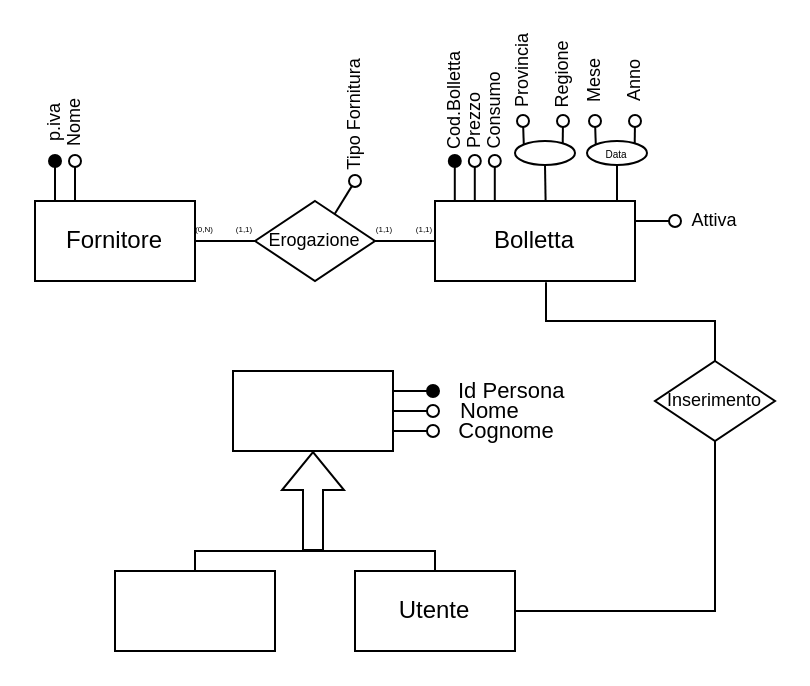
Image size: 810x686. Some labels were removed from this diagram. The shapes that lost their labels are listed below. From the top down, each one's centre as x and y in pixels, then its label:
At point 544,152: "Posizione".
At point 312,410: "Persone".
At point 194,610: "Admin".
